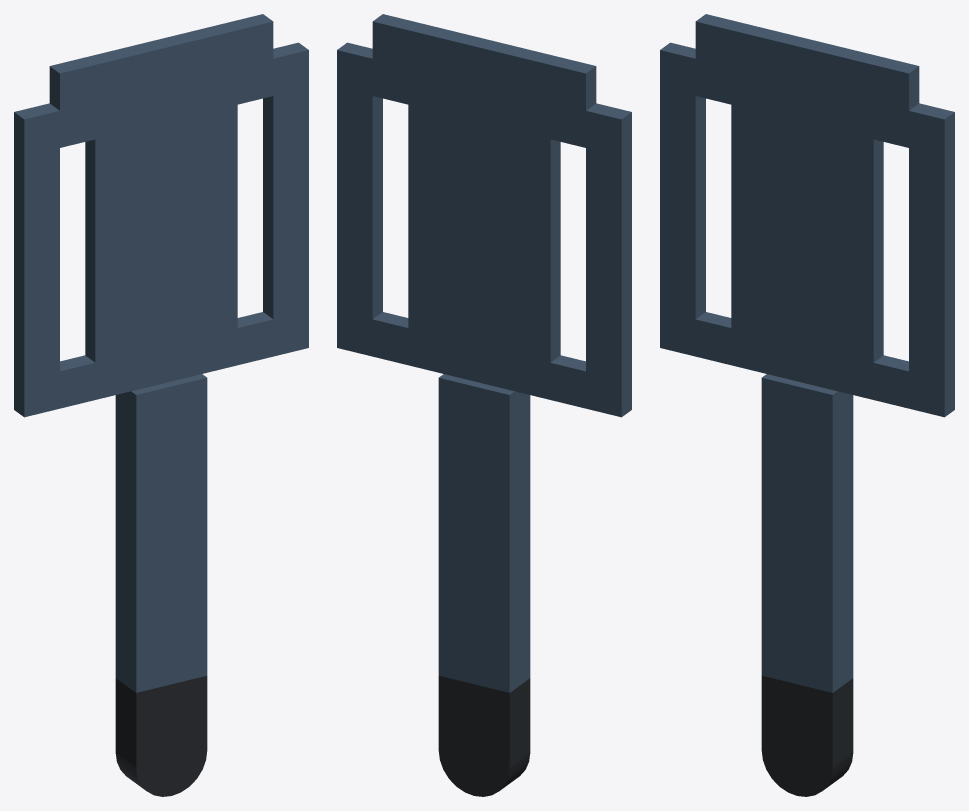
The model's file is spatula.obj.
3 renders of one model, left to right at view 1: azimuth 30°, elevation 25°; view 2: azimuth 150°, elevation 25°; view 3: azimuth 330°, elevation 25°, orthographic.
Bounding box in the file's own units: 8 × 20 × 1.
Materials: 1 (1 with a texture image).
